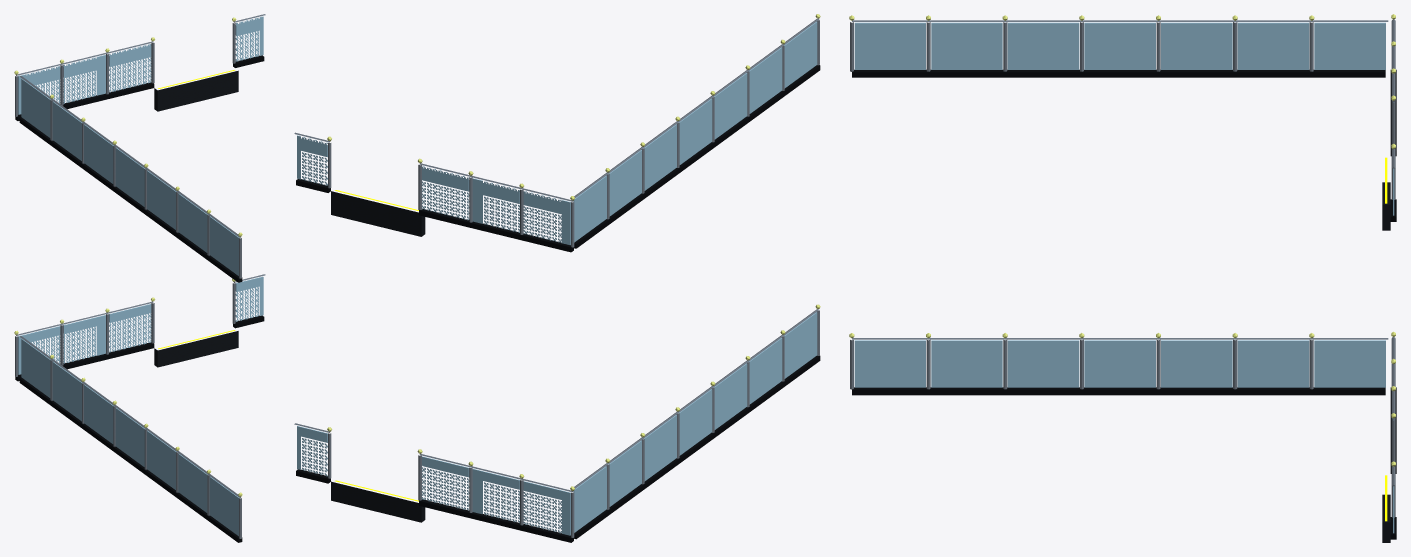
Rendered from tt_struct_guards_ne_plant.glb.
3 views of the same model, side by side, from view 1: azimuth 30°, elevation 25°; view 2: azimuth 150°, elevation 25°; view 3: azimuth 270°, elevation 25° (orthographic). The views are drawn at different scales.
Visible parts, largest first — view 1: Guard_Pane_Scissor, Guard_Kerb, Slab_Infill, Guard_Posts, Guard_Rail, Guard_Ball_Finials; view 2: Guard_Pane_Scissor, Guard_Kerb, Slab_Infill, Guard_Posts, Guard_Rail; view 3: Guard_Pane_Scissor, Guard_Kerb, Guard_Posts, Guard_Rail, Slab_Infill.
Boxes of the visible parts, x1,y1,x2,y2 form: Guard_Pane_Scissor: (18, 16, 263, 536); Guard_Kerb: (15, 55, 264, 542); Slab_Infill: (154, 70, 238, 367); Guard_Posts: (15, 23, 241, 538); Guard_Rail: (16, 14, 265, 497); Guard_Ball_Finials: (14, 17, 242, 496); Guard_Pane_Scissor: (297, 21, 817, 535); Guard_Kerb: (296, 65, 820, 542); Slab_Infill: (331, 191, 425, 522); Guard_Posts: (328, 20, 819, 537); Guard_Rail: (294, 18, 818, 492); Guard_Pane_Scissor: (854, 22, 1394, 533); Guard_Kerb: (852, 69, 1396, 539); Guard_Posts: (850, 21, 1395, 517); Guard_Rail: (852, 19, 1395, 486); Slab_Infill: (1382, 182, 1390, 542).
Size of what is drawn, in the model's own units: 6.14 by 7.66 by 9.52.
Materials: 7 (5 with a texture image).
